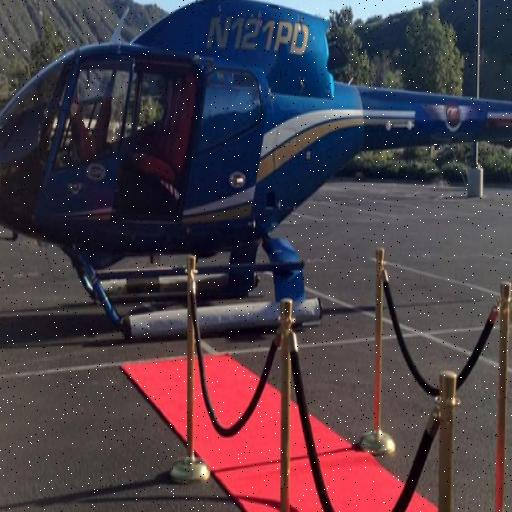helicopter: (1, 1, 512, 361)
